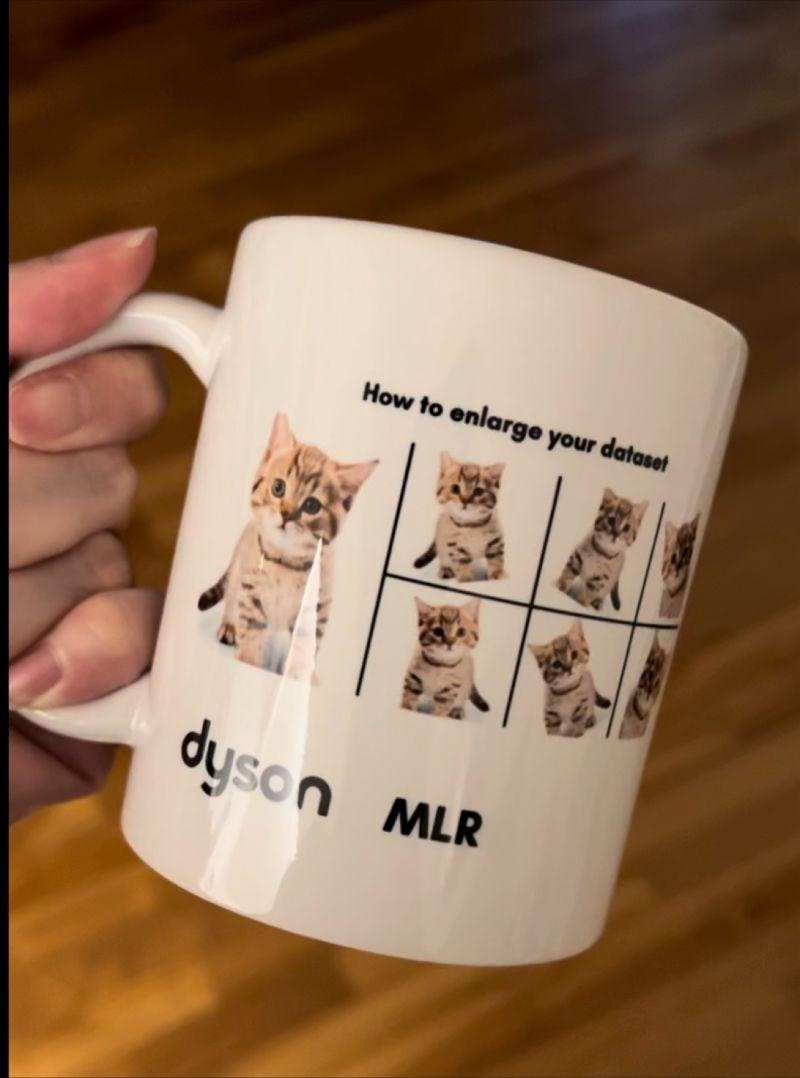cup: (0, 212, 745, 971)
